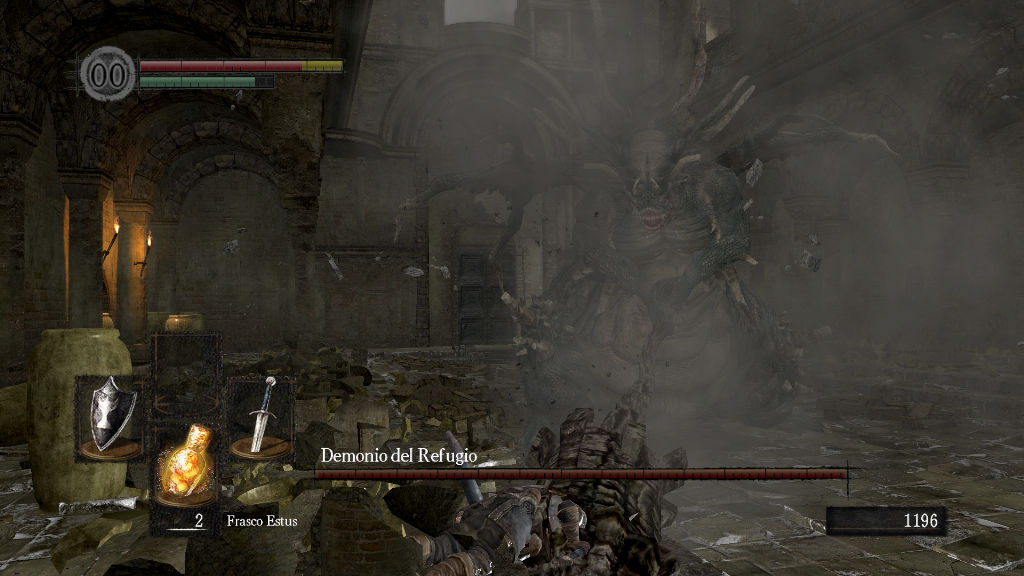bossHP: (314, 469, 847, 479)
health: (138, 58, 343, 71)
humanity: (80, 45, 136, 102)
player: (407, 480, 587, 576)
souls: (825, 506, 945, 536)
stamina: (138, 74, 274, 88)
